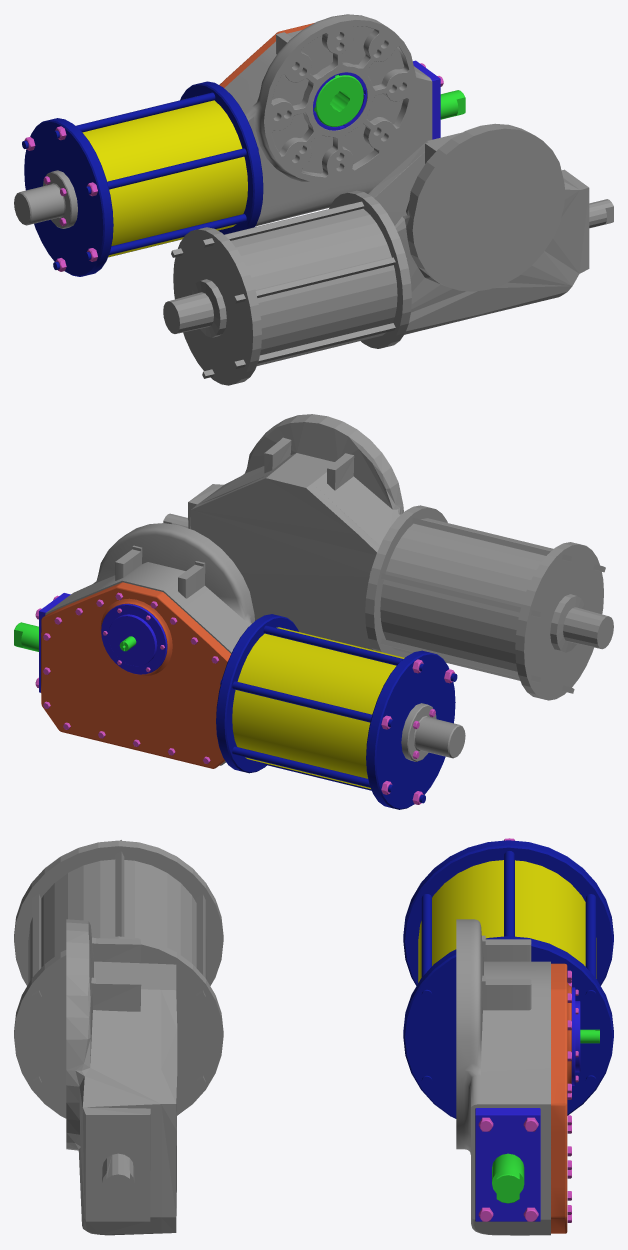
3 renders of one model, top to bottom at view 1: azimuth 30°, elevation 25°; view 2: azimuth 150°, elevation 25°; view 3: azimuth 270°, elevation 25°, orthographic. The views are drawn at different scales.
Parts seen in each view (by area): view 1: MSBR_Body001_Outline, MSBR_Body; view 2: MSBR_Body, MSBR_Body001_Outline; view 3: MSBR_Body, MSBR_Body001_Outline.
Boxes of the visible parts, bbox=[...] form: MSBR_Body001_Outline: bbox=[163, 123, 613, 385]; MSBR_Body: bbox=[14, 14, 465, 276]; MSBR_Body: bbox=[14, 523, 465, 809]; MSBR_Body001_Outline: bbox=[163, 414, 613, 700]; MSBR_Body: bbox=[403, 838, 613, 1235]; MSBR_Body001_Outline: bbox=[14, 840, 223, 1235].
Bounding box in the file's own units: 101 × 44.21 × 90.97.
